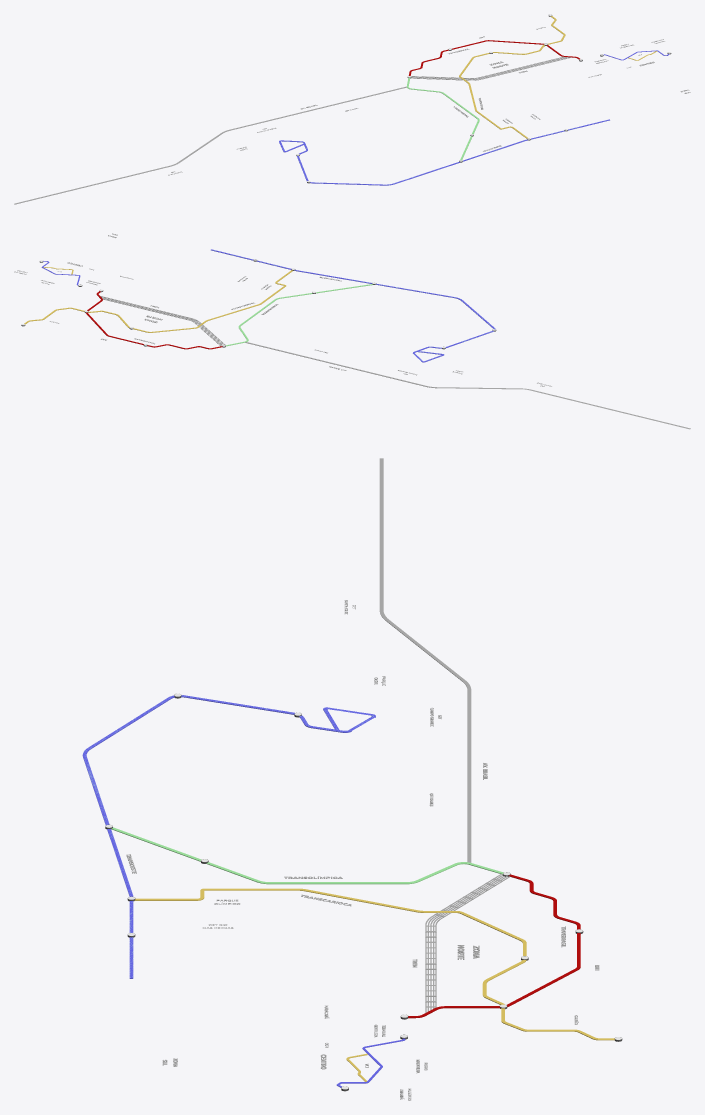
The model's file is linhas_textos.glb.
The picture shows the model from 3 angles, top to bottom: view 1: azimuth 30°, elevation 25°; view 2: azimuth 150°, elevation 25°; view 3: azimuth 270°, elevation 25°; orthographic projection. The views are drawn at different scales.
Parts seen in each view (by area): view 1: group_2, group_0, group_1, group_3; view 2: group_0, group_2, group_1, group_32, group_3; view 3: group_2, group_0, group_1, group_32, group_3.
Part boxes in pixels (left/top/right/bottom): group_2: left=279, top=119, right=609, bottom=185; group_0: left=14, top=86, right=406, bottom=204; group_1: left=459, top=16, right=565, bottom=138; group_3: left=408, top=40, right=579, bottom=75; group_0: left=245, top=342, right=690, bottom=429; group_2: left=211, top=249, right=495, bottom=362; group_1: left=24, top=270, right=292, bottom=332; group_32: left=226, top=284, right=373, bottom=346; group_3: left=86, top=291, right=222, bottom=349; group_2: left=82, top=695, right=375, bottom=978; group_0: left=379, top=458, right=471, bottom=862; group_1: left=134, top=888, right=614, bottom=1040; group_32: left=111, top=827, right=503, bottom=884; group_3: left=408, top=874, right=580, bottom=1018.
Size of the model in its own units: 11.89 by 0.0304 by 4.23.
